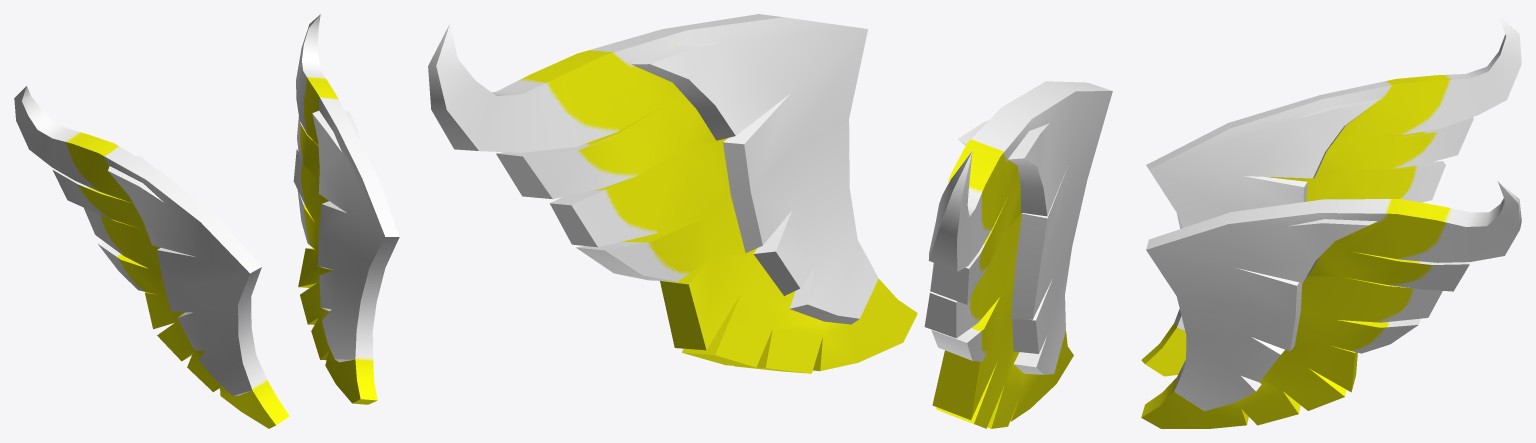
Rendered from heroic.glb.
The picture shows the model from 3 angles, left to right: view 1: azimuth 30°, elevation 25°; view 2: azimuth 150°, elevation 25°; view 3: azimuth 270°, elevation 25°; orthographic projection. The views are drawn at different scales.
Visible parts, largest first — view 1: Wings_2; view 2: Wings_2; view 3: Wings_2.
Part boxes in pixels (x1,y1,x2,y2): Wings_2: (14, 14, 399, 428); Wings_2: (428, 14, 1112, 428); Wings_2: (1141, 14, 1521, 428).
Size of the model in its own units: 1.02 by 0.8426 by 0.958.
Materials: 1 (1 with a texture image).
